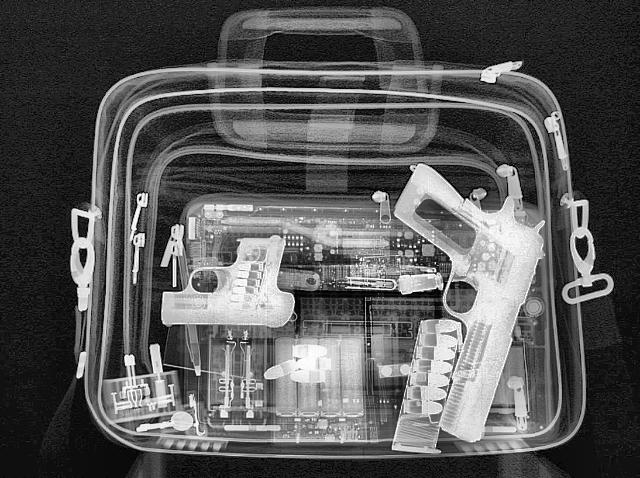Gun: (386, 159, 548, 445), (156, 232, 302, 328)
